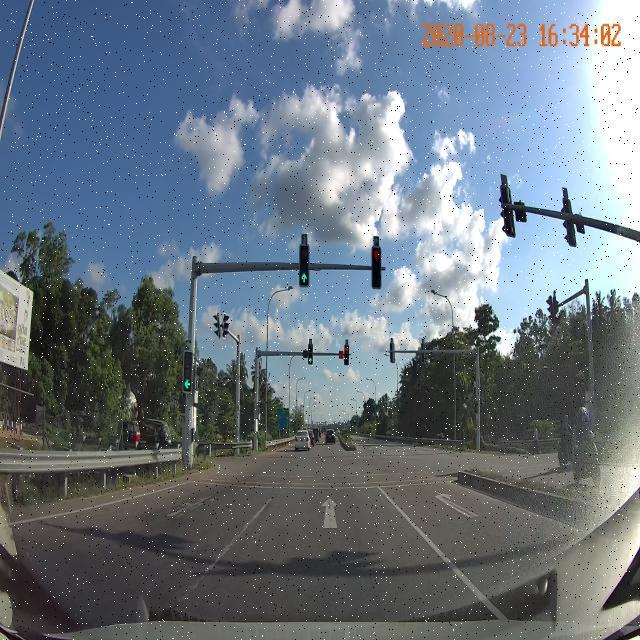forward: (219, 491, 442, 547)
